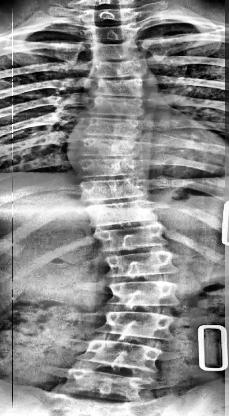Vertebrae: (83, 340, 167, 374), (70, 368, 150, 402), (110, 277, 180, 307), (102, 225, 169, 255), (108, 308, 170, 340), (91, 203, 157, 230), (112, 253, 178, 279), (85, 178, 149, 204), (78, 158, 145, 180), (83, 138, 143, 160), (88, 94, 146, 116), (84, 118, 142, 138), (96, 62, 148, 80), (94, 80, 150, 96), (92, 22, 136, 40), (92, 10, 136, 28), (93, 44, 136, 60)
